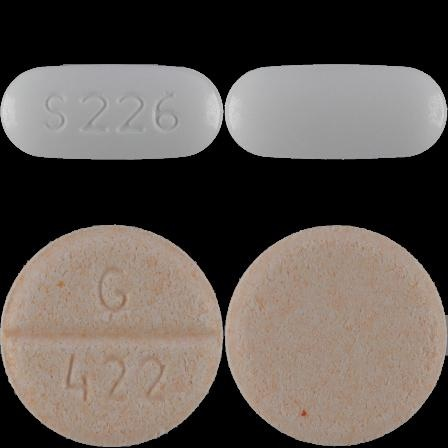50268-537: (0, 0, 224, 224)
